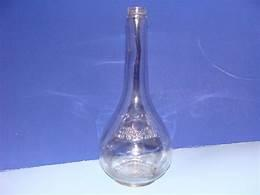Volumetric flask: (104, 3, 178, 185)
